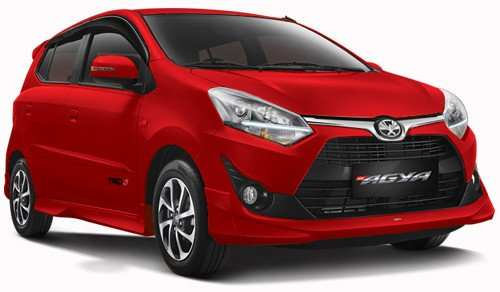mobil: (9, 8, 492, 269)
